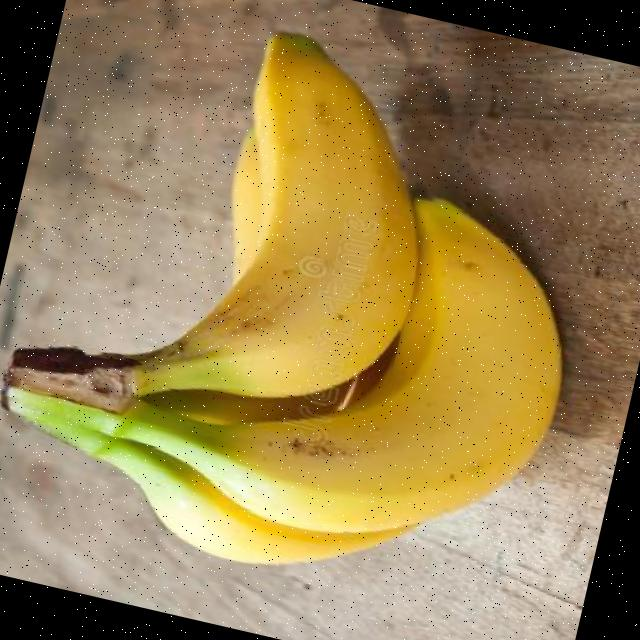banana: (145, 192, 564, 534), (101, 29, 421, 396)
